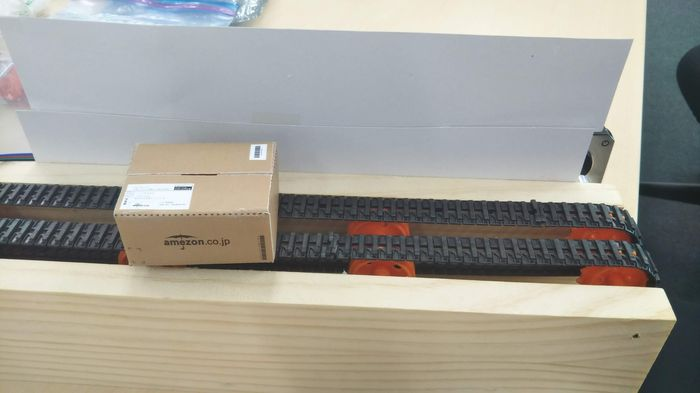box1: (110, 137, 286, 267)
